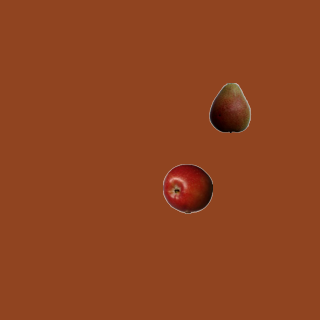Apple Braeburn: (162, 163, 212, 213)
Pear Forelle: (204, 82, 254, 132)
